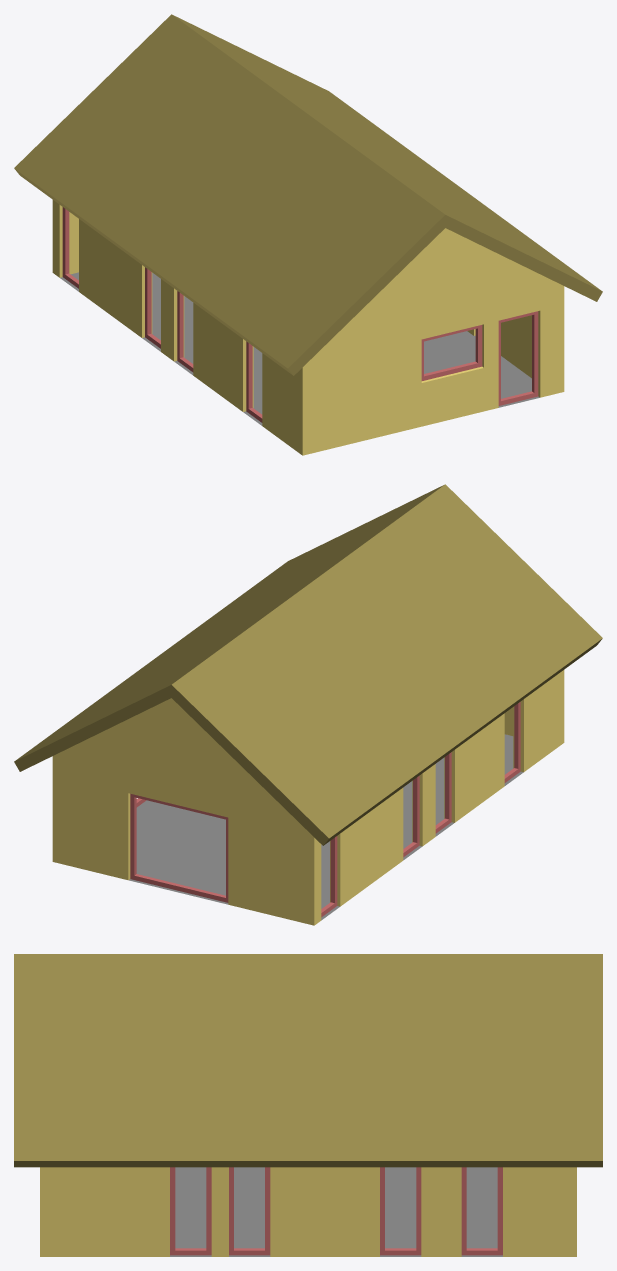
The model's file is result.glb.
3 views of the same model, one above another, from view 1: azimuth 30°, elevation 25°; view 2: azimuth 150°, elevation 25°; view 3: azimuth 270°, elevation 25° (orthographic). The views are drawn at different scales.
Visible parts, largest first — view 1: 561c9859-9e01-4233-8169-6a099628f536__undefined (×2), 81152717-4124-4e31-8569-e0bb0b48c0db__undefined, 23428fb3-8cb9-4152-897e-13857a5ef5f6__Plane_12, 7664abf5-4d7d-4cf9-bcbc-3b2796bced97__Box, 3a1ce91d-3438-462f-9ce9-70b82e2fef35__Box_3, 04e83602-8f86-40fe-b8c3-0a453927dbaf__Box_21, c831eb18-c4f3-4cc5-9122-0656ccbe7262__Box_15, 795232b8-7d20-4a9b-8438-0f28dc896bb4__Box_12; view 2: 561c9859-9e01-4233-8169-6a099628f536__undefined (×2), 81152717-4124-4e31-8569-e0bb0b48c0db__undefined, 23428fb3-8cb9-4152-897e-13857a5ef5f6__Plane_12, be917220-e523-46f2-b501-513125664da5__Box_9, 04e83602-8f86-40fe-b8c3-0a453927dbaf__Box_21, c831eb18-c4f3-4cc5-9122-0656ccbe7262__Box_15, d29c4ef4-edd4-42a1-b621-faf46853253d__Box_18, 795232b8-7d20-4a9b-8438-0f28dc896bb4__Box_12; view 3: 561c9859-9e01-4233-8169-6a099628f536__undefined, 81152717-4124-4e31-8569-e0bb0b48c0db__undefined, 23428fb3-8cb9-4152-897e-13857a5ef5f6__Plane_12, 6849c5f2-1719-4e80-8b4b-609d1682d763__Box_24, a242541d-36ee-4e0f-89c9-834d50435a51__Box_33, 6837e820-a313-4dac-bd6a-e1d02cab2c04__Box_27, 1695f801-2f84-4c40-b998-4239f37a7c6f__Box_30.
Boxes of the visible parts, x1,y1,x2,y2 form: 561c9859-9e01-4233-8169-6a099628f536__undefined (×2): (14, 14, 602, 375); 81152717-4124-4e31-8569-e0bb0b48c0db__undefined: (52, 200, 564, 455); 23428fb3-8cb9-4152-897e-13857a5ef5f6__Plane_12: (60, 272, 539, 425); 7664abf5-4d7d-4cf9-bcbc-3b2796bced97__Box: (498, 311, 538, 405); 3a1ce91d-3438-462f-9ce9-70b82e2fef35__Box_3: (421, 325, 482, 380); 04e83602-8f86-40fe-b8c3-0a453927dbaf__Box_21: (62, 207, 78, 288); c831eb18-c4f3-4cc5-9122-0656ccbe7262__Box_15: (177, 291, 193, 372); 795232b8-7d20-4a9b-8438-0f28dc896bb4__Box_12: (246, 341, 262, 422); 561c9859-9e01-4233-8169-6a099628f536__undefined (×2): (14, 484, 602, 845); 81152717-4124-4e31-8569-e0bb0b48c0db__undefined: (52, 670, 564, 925); 23428fb3-8cb9-4152-897e-13857a5ef5f6__Plane_12: (129, 734, 523, 920); be917220-e523-46f2-b501-513125664da5__Box_9: (130, 793, 228, 902); 04e83602-8f86-40fe-b8c3-0a453927dbaf__Box_21: (321, 836, 337, 917); c831eb18-c4f3-4cc5-9122-0656ccbe7262__Box_15: (435, 752, 451, 833); d29c4ef4-edd4-42a1-b621-faf46853253d__Box_18: (403, 775, 419, 857); 795232b8-7d20-4a9b-8438-0f28dc896bb4__Box_12: (504, 702, 520, 782); 561c9859-9e01-4233-8169-6a099628f536__undefined: (14, 954, 602, 1167); 81152717-4124-4e31-8569-e0bb0b48c0db__undefined: (40, 1167, 576, 1256); 23428fb3-8cb9-4152-897e-13857a5ef5f6__Plane_12: (170, 1167, 502, 1256); 6849c5f2-1719-4e80-8b4b-609d1682d763__Box_24: (170, 1167, 211, 1255); a242541d-36ee-4e0f-89c9-834d50435a51__Box_33: (461, 1167, 502, 1255); 6837e820-a313-4dac-bd6a-e1d02cab2c04__Box_27: (229, 1167, 270, 1255); 1695f801-2f84-4c40-b998-4239f37a7c6f__Box_30: (380, 1167, 421, 1255).
Size of the model in its own units: 757 by 500 by 1139.
